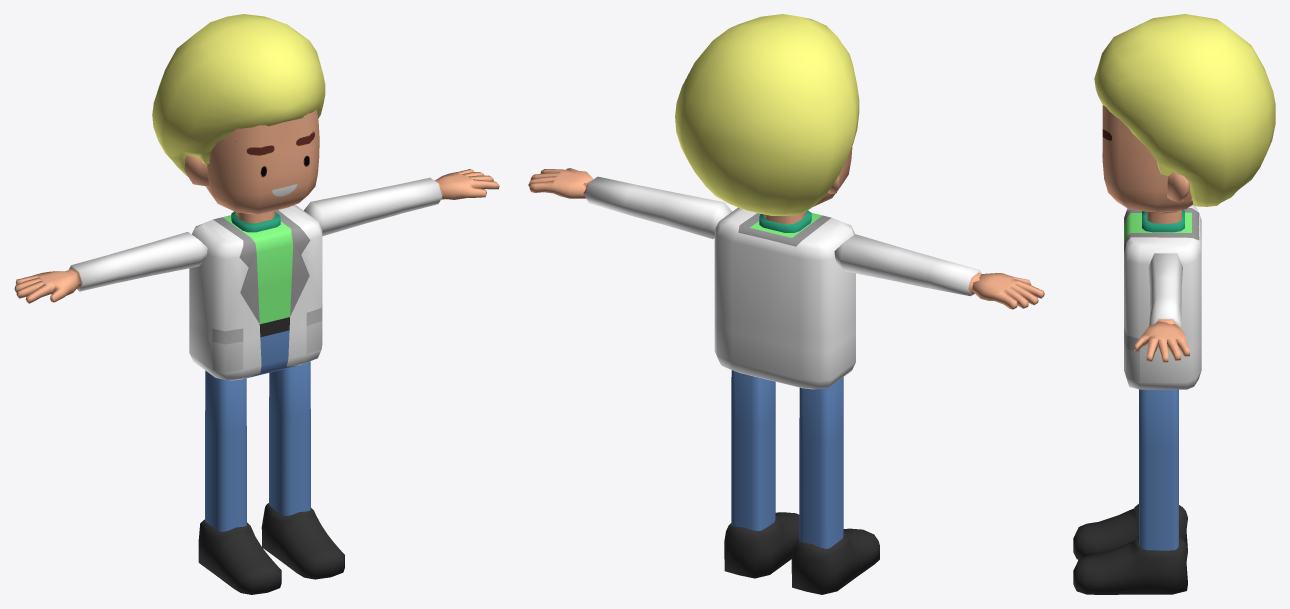
The model's file is NPC_White01_BlondeHair01.gltf.
The picture shows the model from 3 angles, left to right: view 1: azimuth 30°, elevation 25°; view 2: azimuth 150°, elevation 25°; view 3: azimuth 270°, elevation 25°; orthographic projection. The views are drawn at different scales.
Visible parts, largest first — view 1: NPC_Corpo_White1_BlondeHair.001; view 2: NPC_Corpo_White1_BlondeHair.001; view 3: NPC_Corpo_White1_BlondeHair.001.
Boxes of the visible parts, x1,y1,x2,y2 form: NPC_Corpo_White1_BlondeHair.001: [14, 14, 499, 594]; NPC_Corpo_White1_BlondeHair.001: [528, 14, 1044, 594]; NPC_Corpo_White1_BlondeHair.001: [1073, 14, 1275, 594].
Size of the model in its own units: 2.31 by 2.41 by 0.8168.
1 material, 1 textured.
